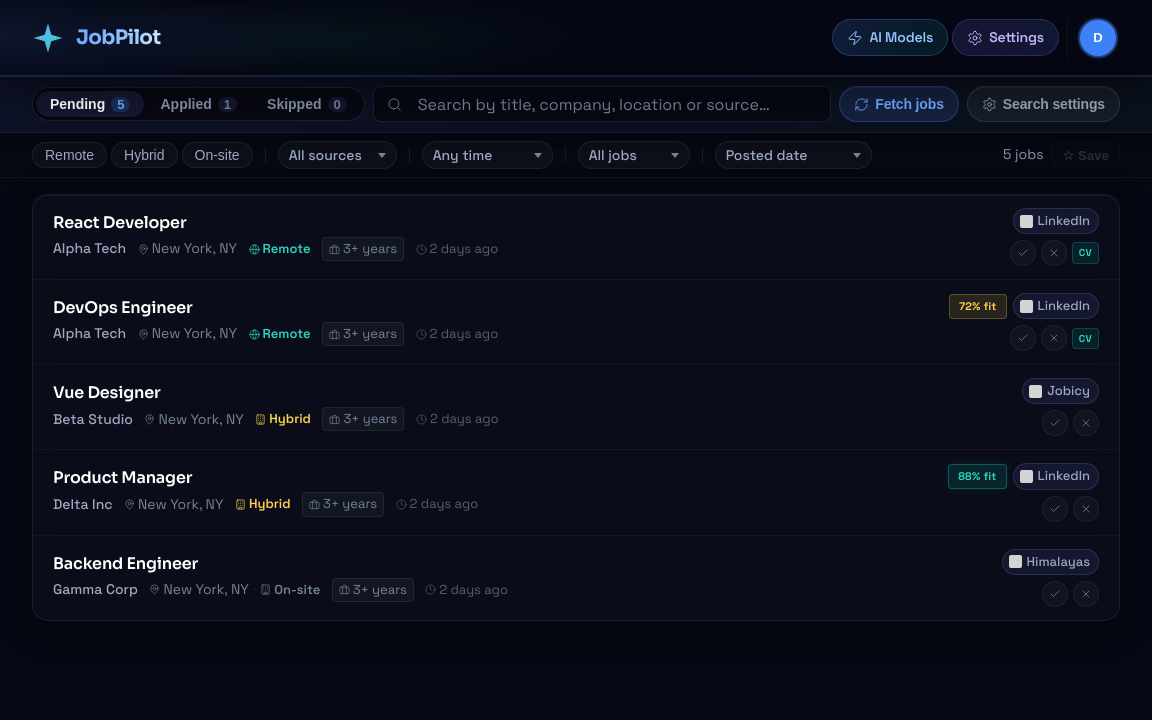
Test: Loading and rendering jobs › requests the correct status when a different tab is opened
Expected: the text "React Developer" is shown, [53, 212, 186, 233]
Click the tab "Applied 1".
click(199, 104)  # box [146, 91, 251, 117]
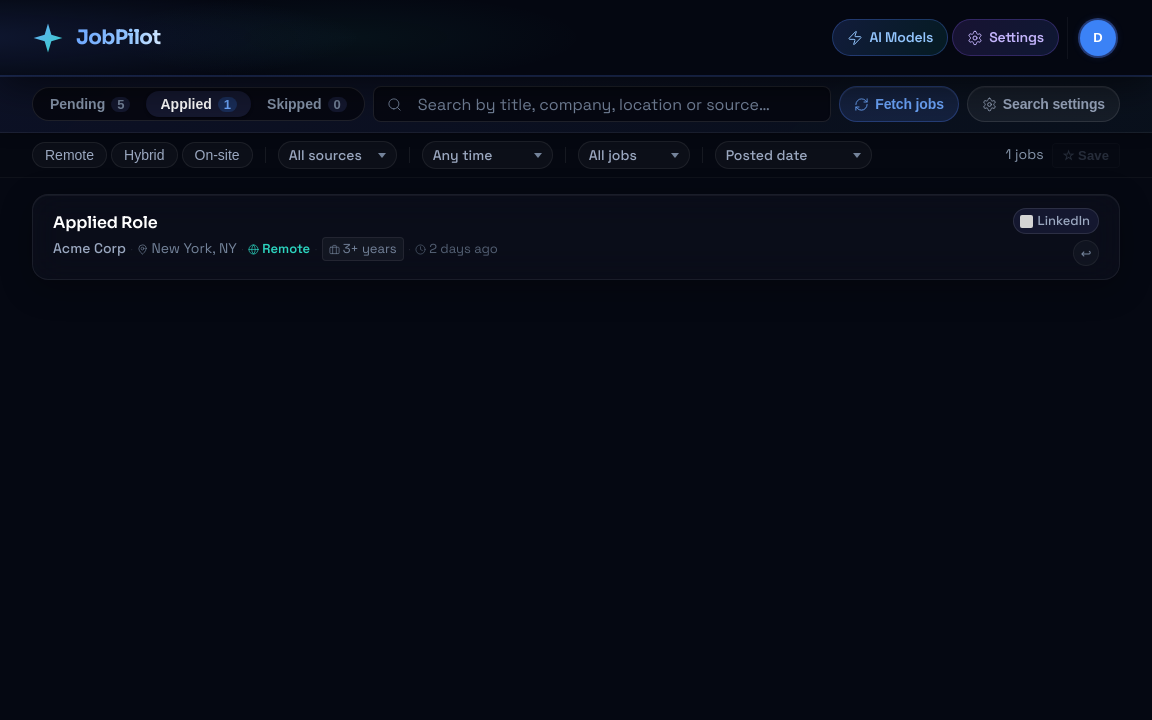
Now the text "Applied Role" is shown, box [53, 212, 158, 233]
Now the button "React Developer" is gone
